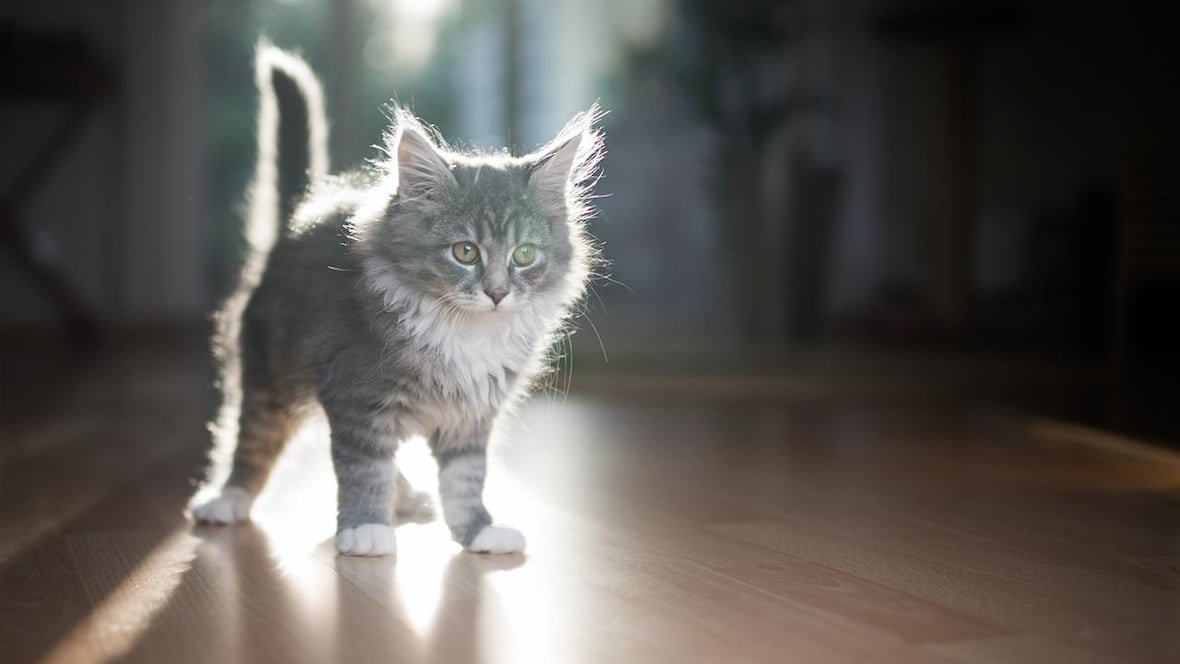cat: (176, 43, 600, 568)
